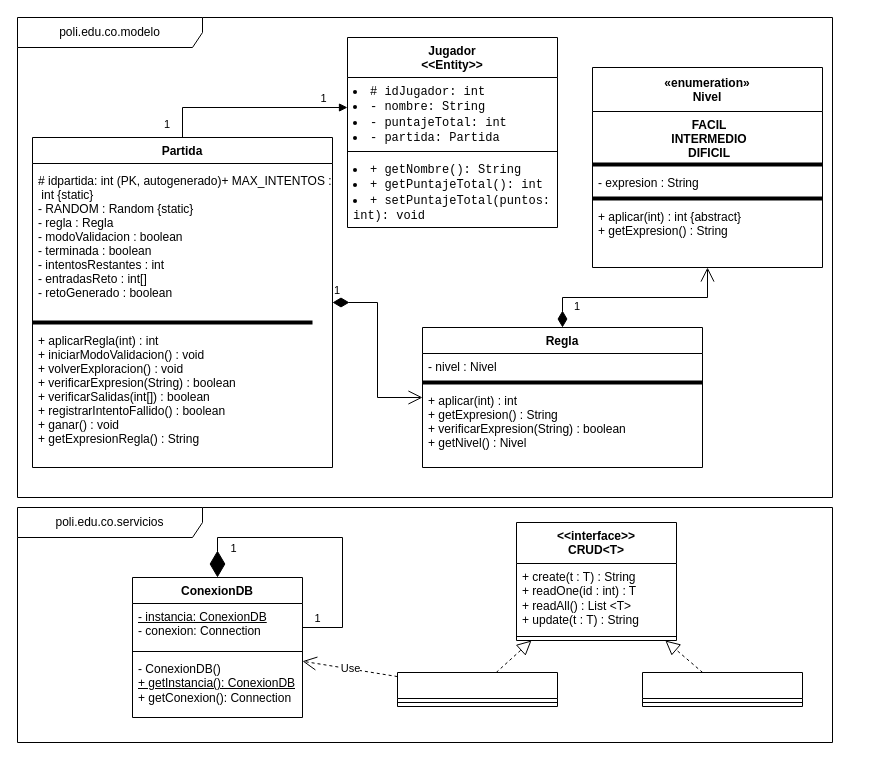
The diagram is 890 pixels wide and 760 high, and some of its shapes have lost their labels. Each missing label, with the centre of its shape:
DAOJugador: (x=722, y=689)
DAOPuntaje: (x=477, y=689)
